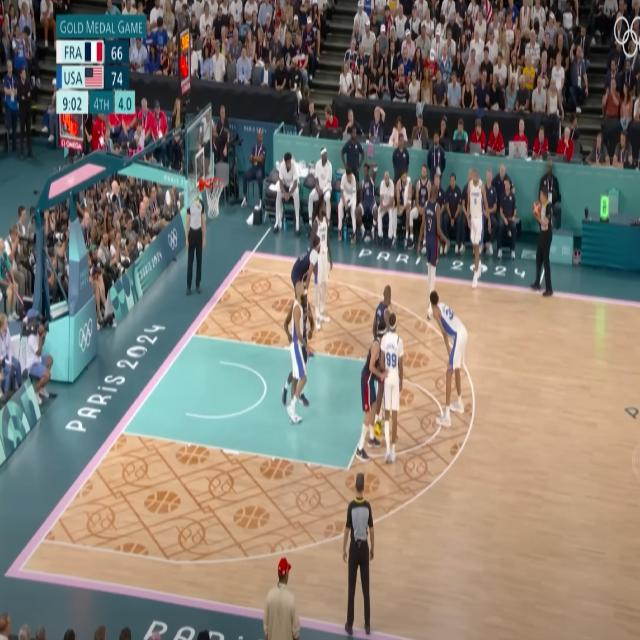basketball: (533, 198, 542, 218)
hoop: (204, 178, 226, 218)
